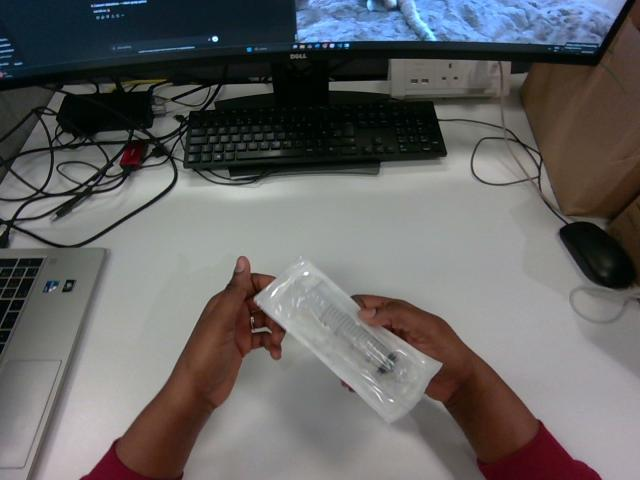syringe: (255, 258, 440, 422)
